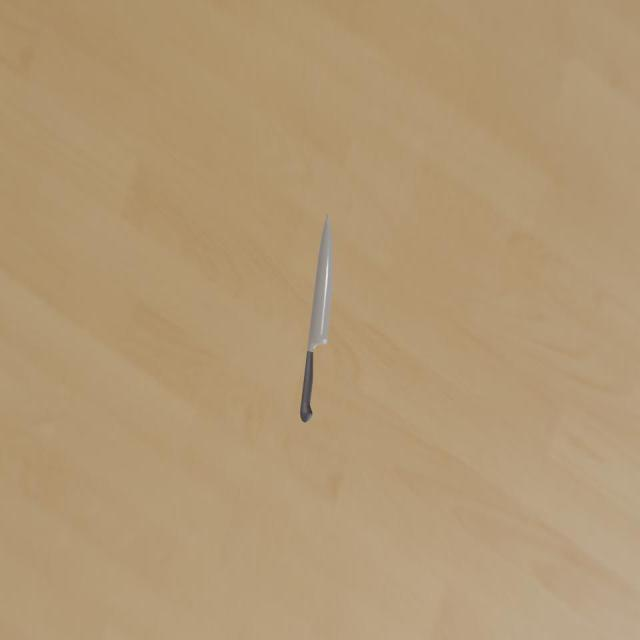knife: (300, 350, 313, 422)
